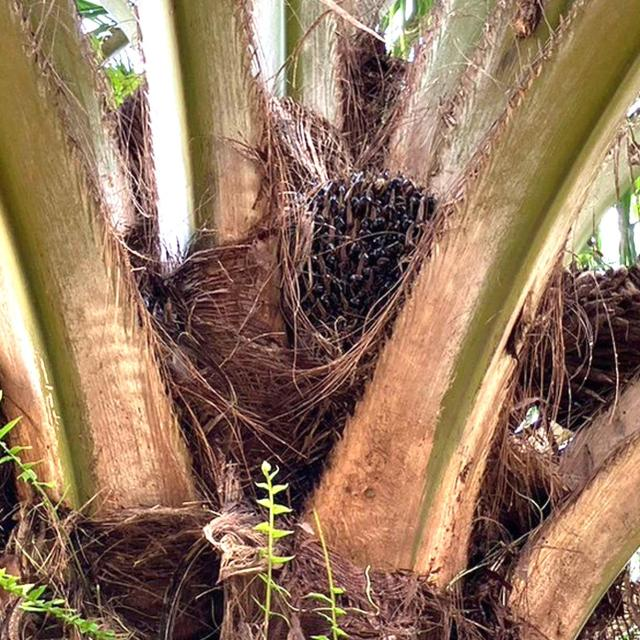unripe: (289, 158, 448, 364)
